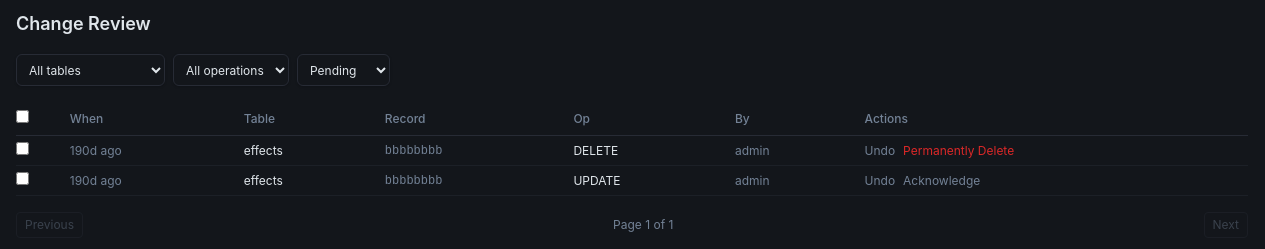
Test: ChangeReviewPage › keeps list visible and shows inline error when background refresh fails
Click the button "Acknowledge" at (942, 180), box [903,172,980,188]
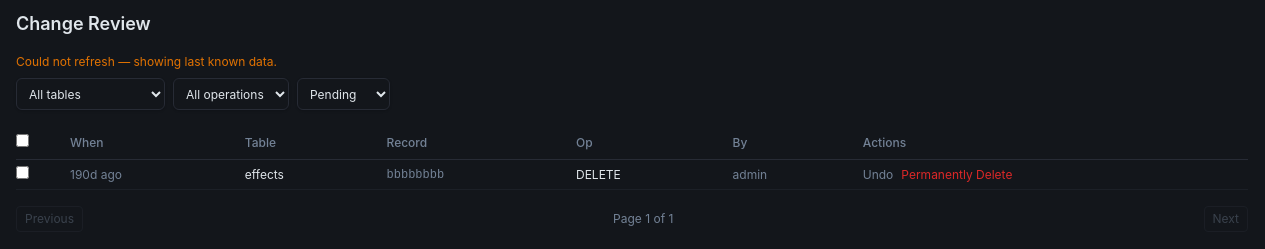
Expected: the table is shown, [16,126,1248,190]
Expected: the text "Could not refresh — showing last known data." is shown, [16,54,277,69]
